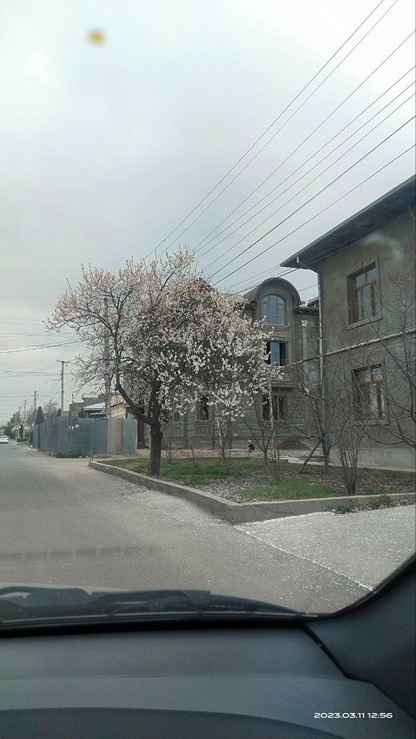tree: (50, 245, 261, 476)
